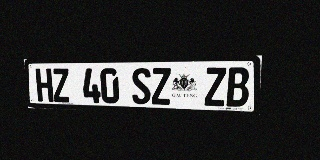0: (100, 68, 119, 104)
4: (82, 68, 101, 103)
B: (226, 67, 249, 107)
H: (35, 68, 54, 102)
S: (131, 68, 151, 104)
Z: (204, 67, 226, 106), (151, 68, 171, 105), (52, 68, 70, 102)
